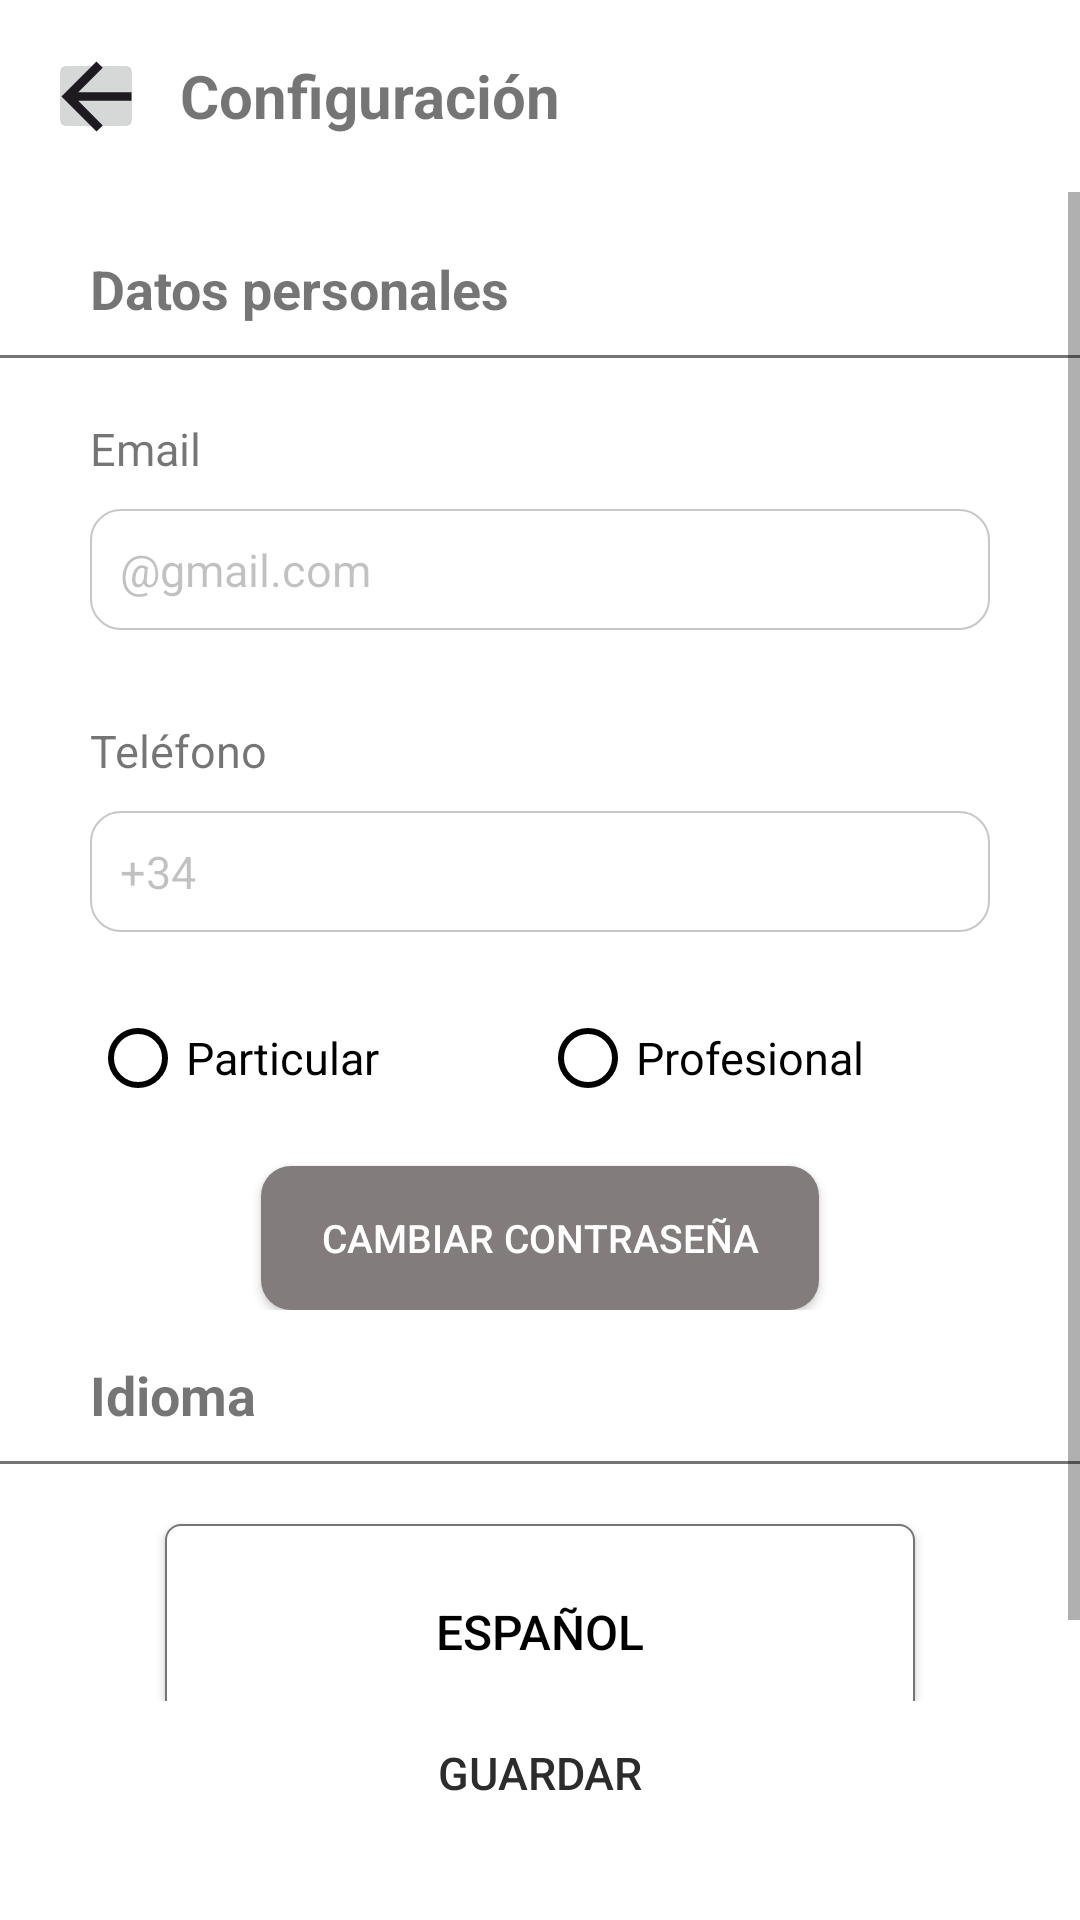

Icons on this 1080 × 1920 Android screen, each with the point to tap as (x,y):
back: (96,96)
